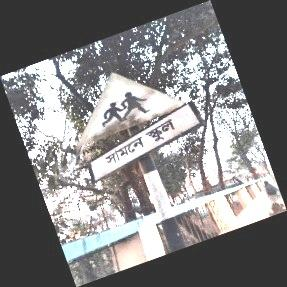School-in-front: (76, 72, 197, 175)
